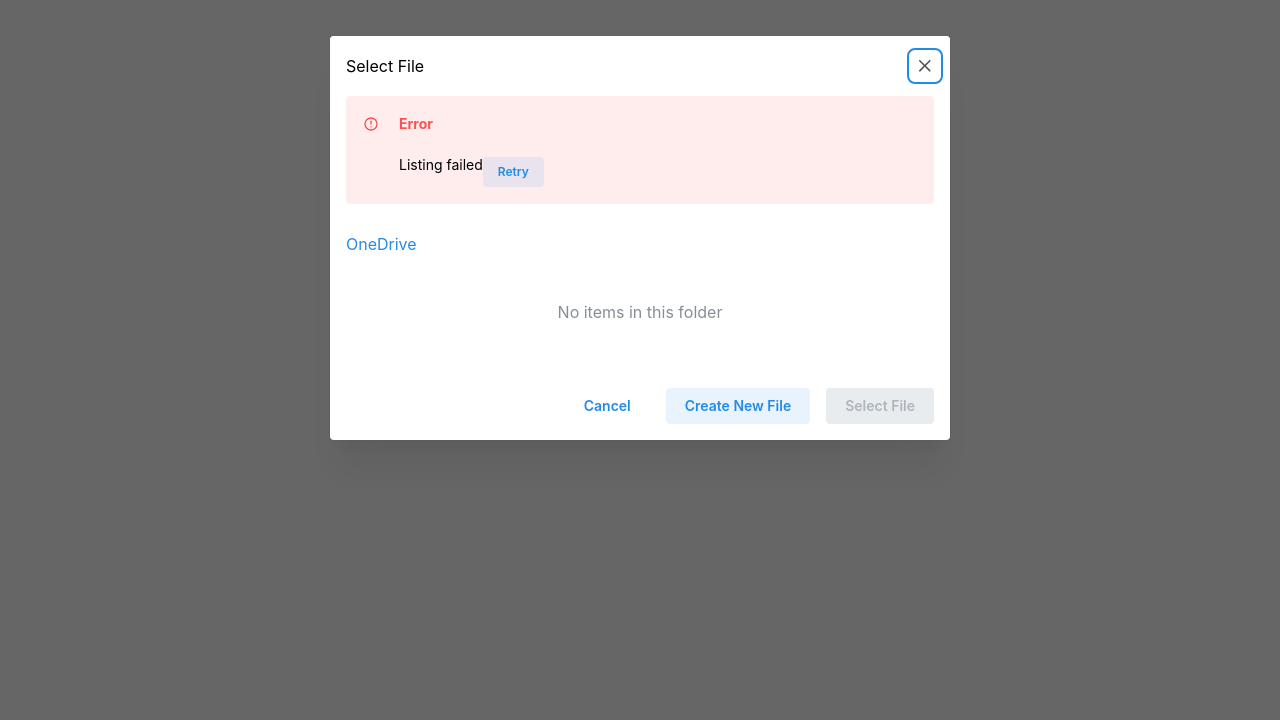
it: FileSelectionModal › Error Handling › should allow retry after listing error
Check: the text "Listing failed Retry" is shown, box [399,156,544,187]
Click the button "Retry" at (513, 172), box [483,157,544,187]
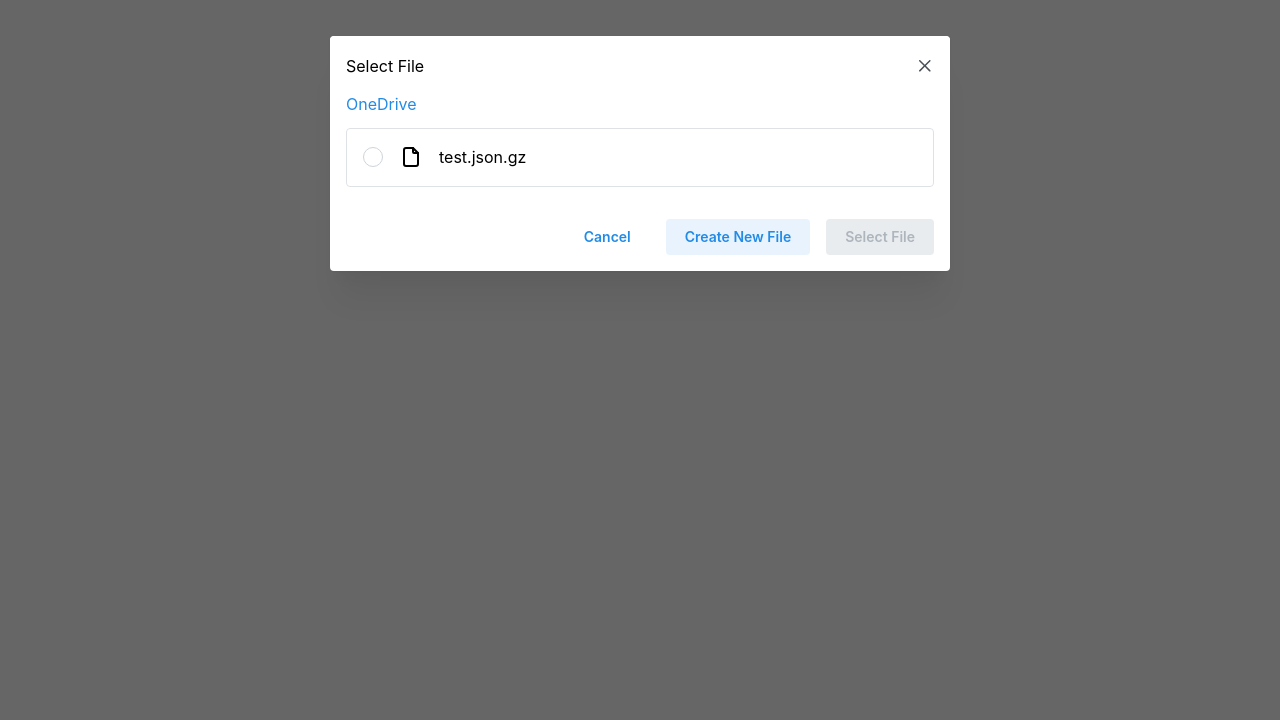
Check: the text "test.json.gz" is shown, box [439,147,526,167]
